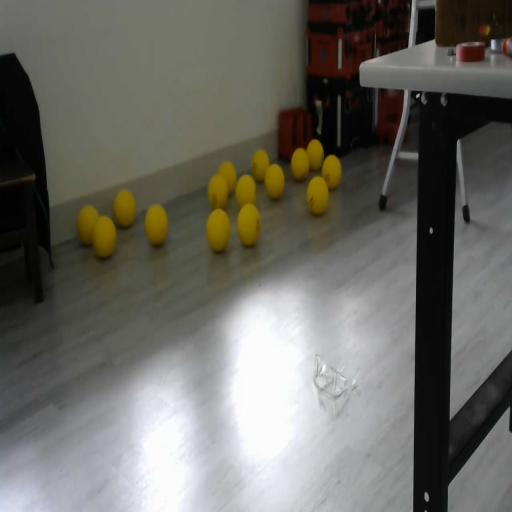FUEL: (205, 206, 231, 253), (236, 201, 262, 247), (143, 201, 169, 247), (92, 213, 117, 258), (112, 188, 137, 228), (306, 176, 329, 214), (235, 174, 257, 208), (322, 154, 342, 189), (290, 146, 310, 181), (265, 164, 285, 199), (218, 160, 236, 196), (306, 138, 324, 171), (252, 149, 270, 182)
